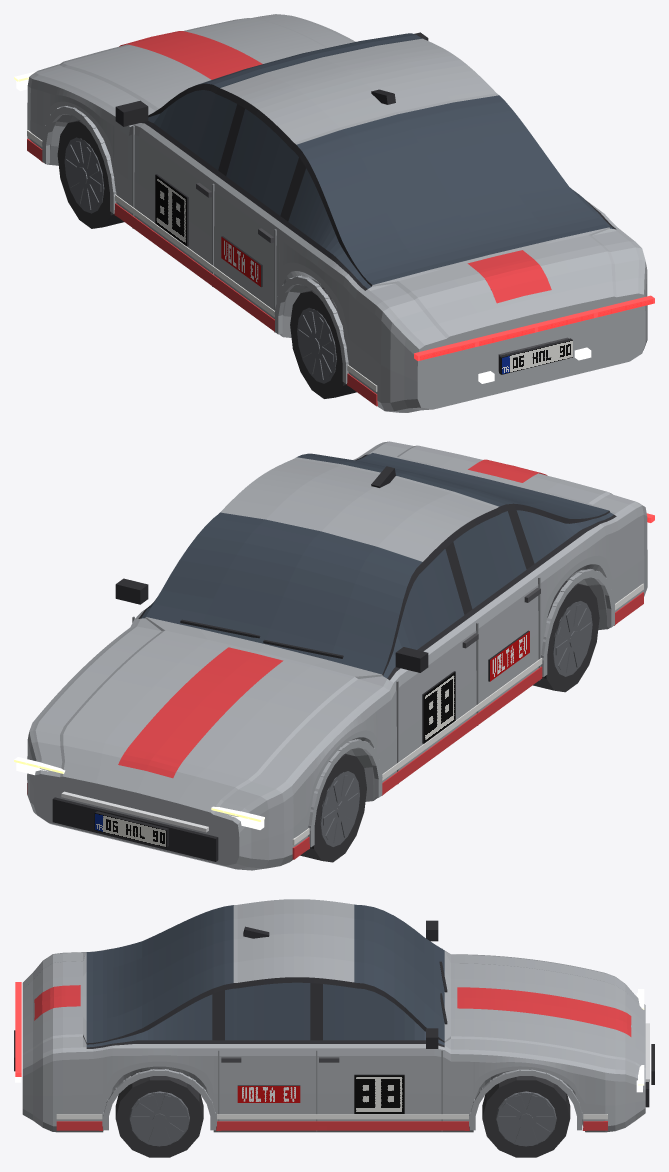
File: hanlong.glb
3 views of the same model, one above another, from view 1: azimuth 30°, elevation 25°; view 2: azimuth 150°, elevation 25°; view 3: azimuth 270°, elevation 25° (orthographic). The views are drawn at different scales.
Visible parts, largest first — view 1: body.006, livery.006, wheel_RL.006, wheel_FL.006; view 2: body.006, livery.006, wheel_RL.006, wheel_FL.006; view 3: body.006, livery.006, wheel_RR.006, wheel_FR.006.
Part boxes in pixels (x1,y1,x2,y2): body.006: [14, 14, 654, 412]; livery.006: [27, 31, 551, 406]; wheel_RL.006: [290, 287, 356, 398]; wheel_FL.006: [57, 120, 123, 228]; body.006: [14, 441, 654, 870]; livery.006: [27, 459, 643, 859]; wheel_RL.006: [533, 580, 599, 692]; wheel_FL.006: [300, 753, 366, 862]; body.006: [14, 899, 654, 1132]; livery.006: [34, 985, 631, 1130]; wheel_RR.006: [115, 1068, 203, 1157]; wheel_FR.006: [482, 1076, 570, 1157].
Size of the model in its own units: 2.21 by 1.59 by 5.11.
17 materials, 6 textured.
